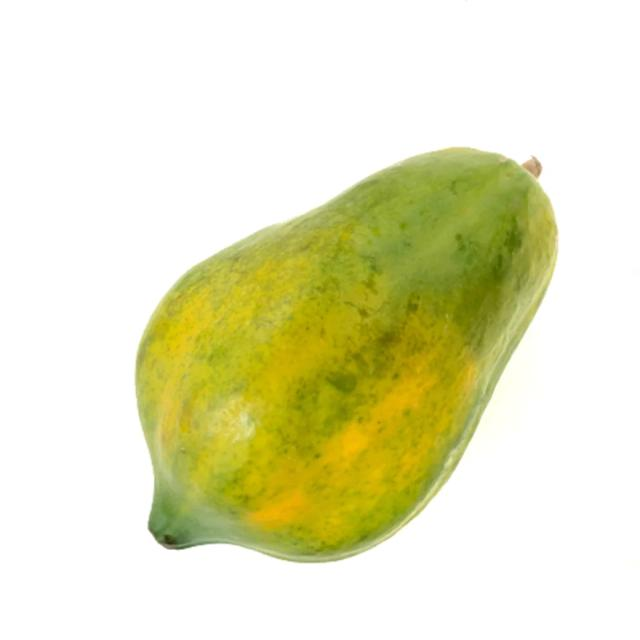organic: (134, 150, 557, 564)
